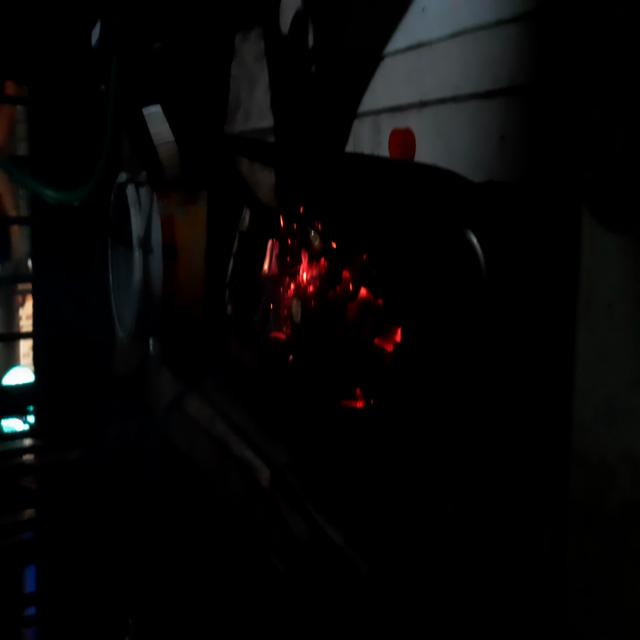Fire: (257, 186, 410, 410)
